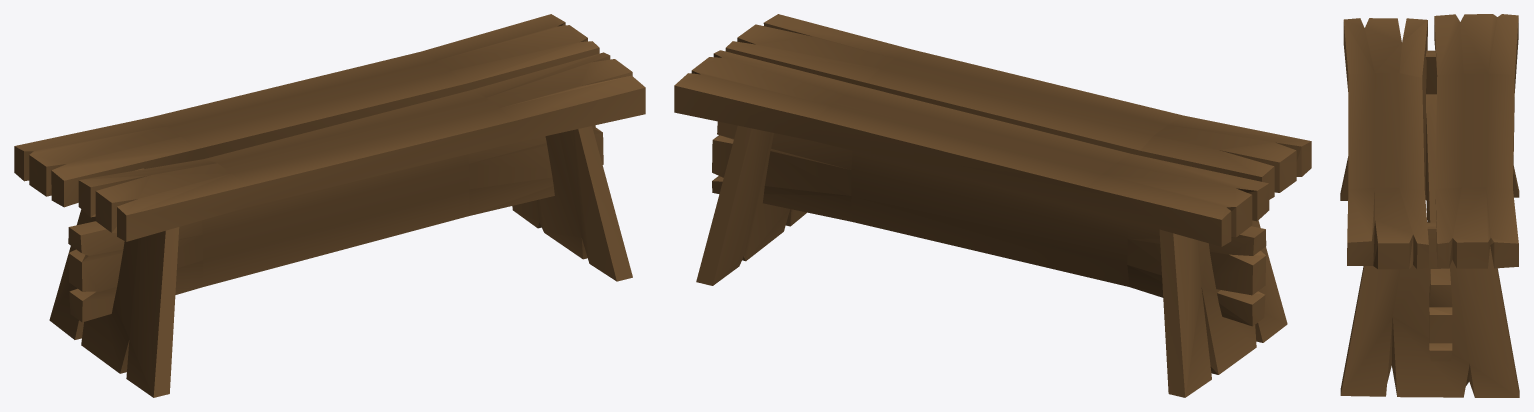
The model's file is obj_bench_LOW.FBX.
The picture shows the model from 3 angles, left to right: view 1: azimuth 30°, elevation 25°; view 2: azimuth 150°, elevation 25°; view 3: azimuth 270°, elevation 25°; orthographic projection. The views are drawn at different scales.
Parts seen in each view (by area): view 1: obj_bench_LOW; view 2: obj_bench_LOW; view 3: obj_bench_LOW.
Part boxes in pixels (bbox=[...]): obj_bench_LOW: bbox=[14, 14, 645, 397]; obj_bench_LOW: bbox=[674, 14, 1311, 397]; obj_bench_LOW: bbox=[1340, 14, 1519, 397].
Size of the model in its own units: 3.36 by 1.13 by 1.11.
